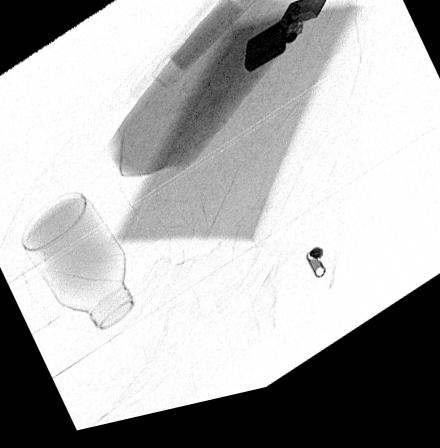Lighter: (243, 8, 326, 84)
